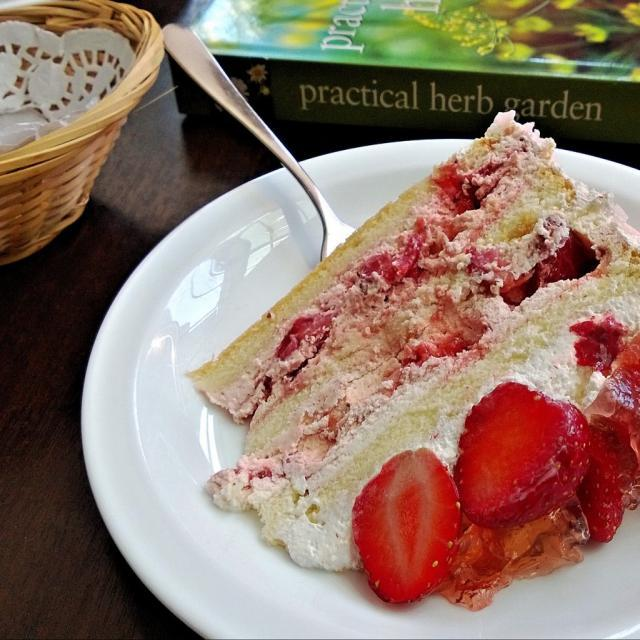Strawberry: (456, 373, 598, 555), (352, 447, 464, 608), (573, 430, 640, 546)
